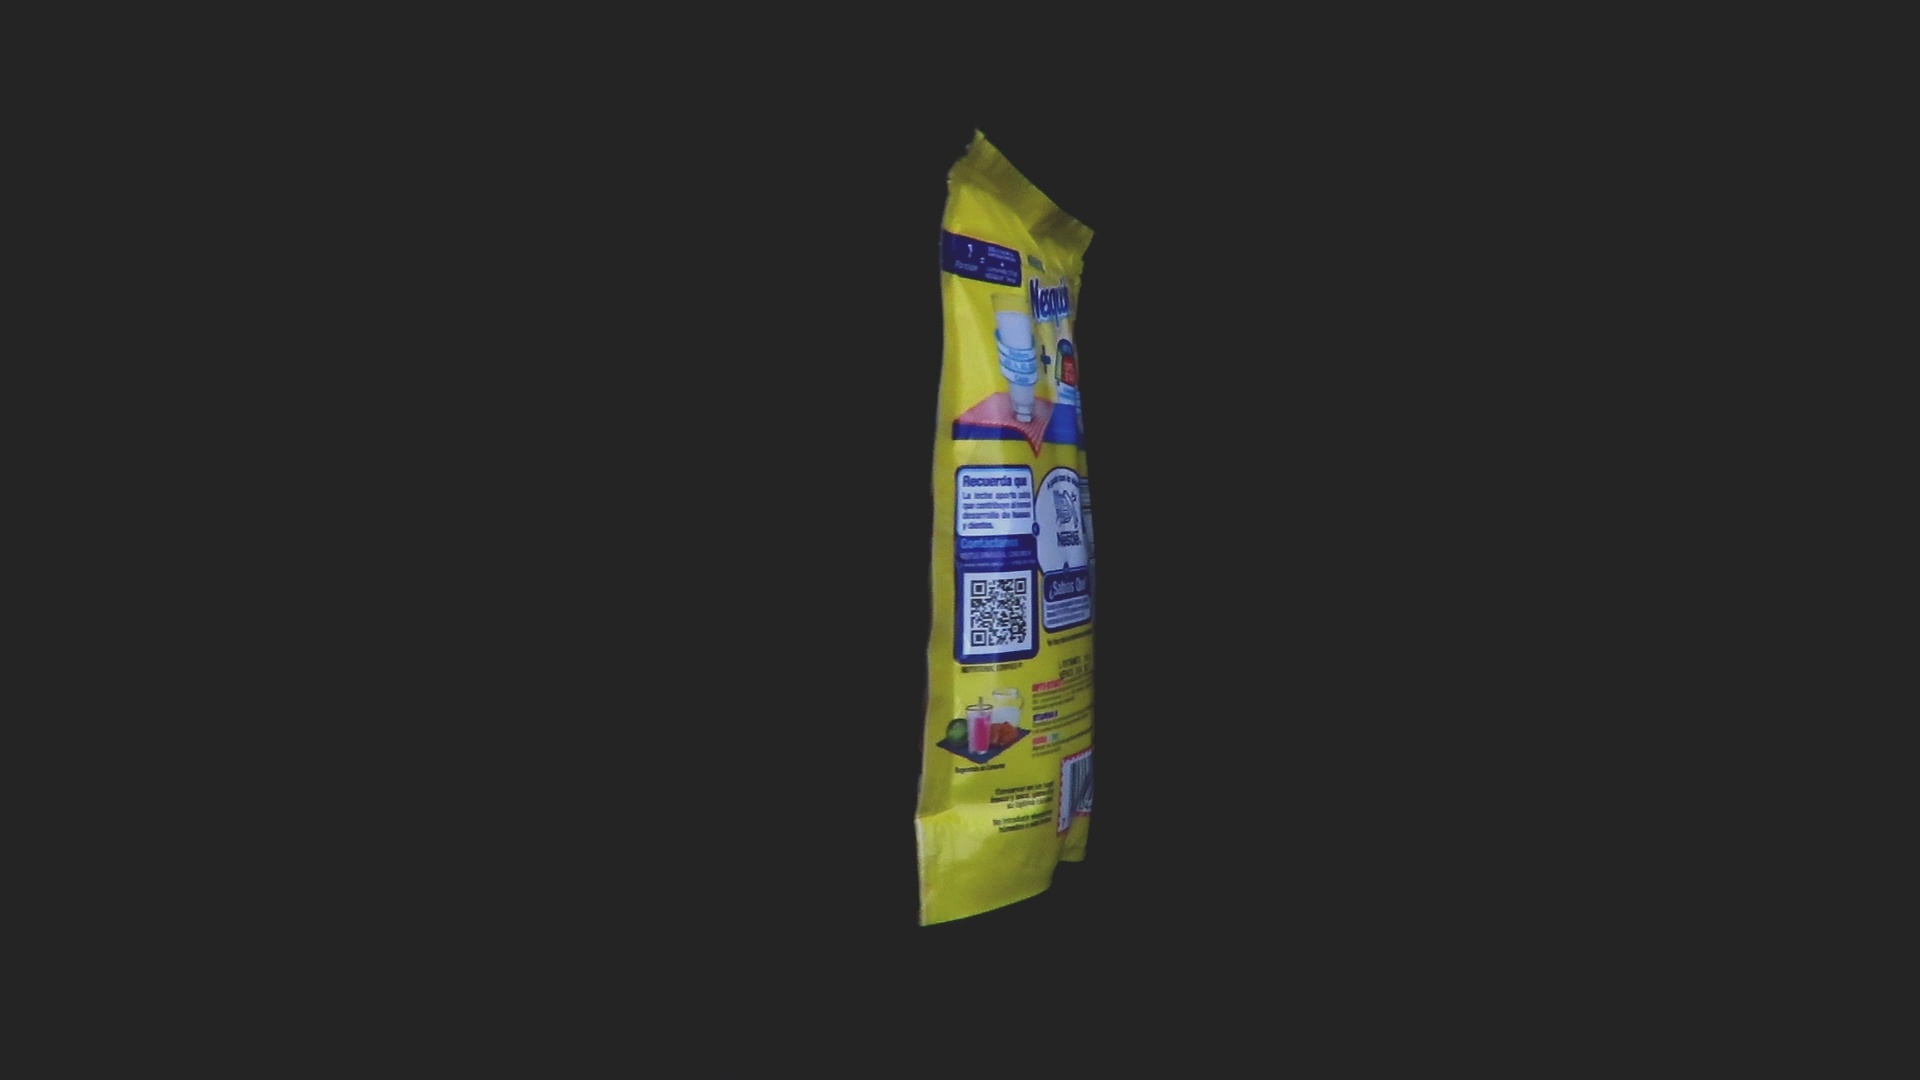COL0170305DYP20000: (909, 123, 1102, 932)
